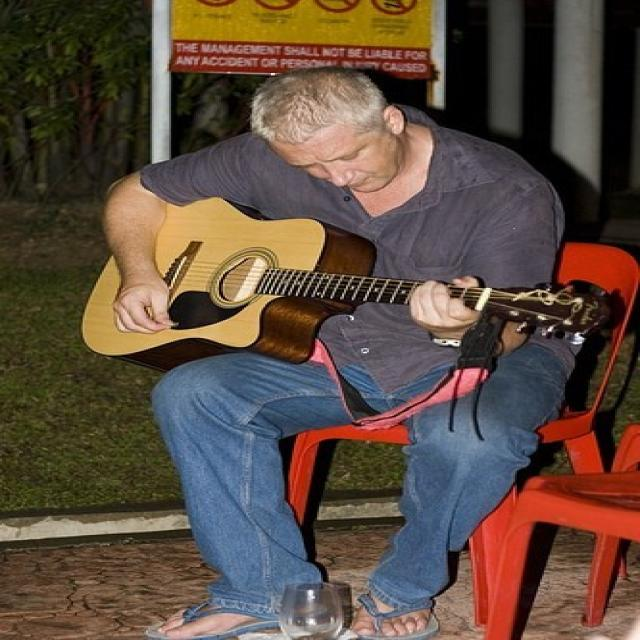guitar: (79, 197, 608, 374)
